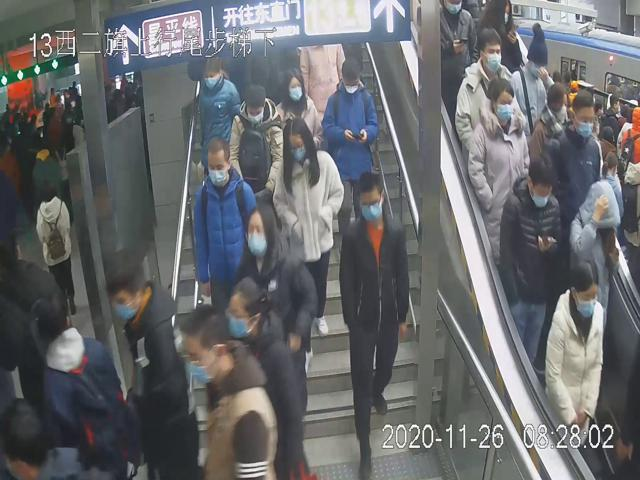person: (337, 169, 411, 480), (232, 203, 316, 421), (274, 115, 345, 336), (498, 155, 561, 370), (465, 78, 532, 267), (191, 130, 256, 313), (323, 58, 382, 258), (543, 260, 605, 445), (454, 24, 515, 156), (227, 80, 279, 196), (195, 59, 243, 180), (273, 65, 324, 166)
